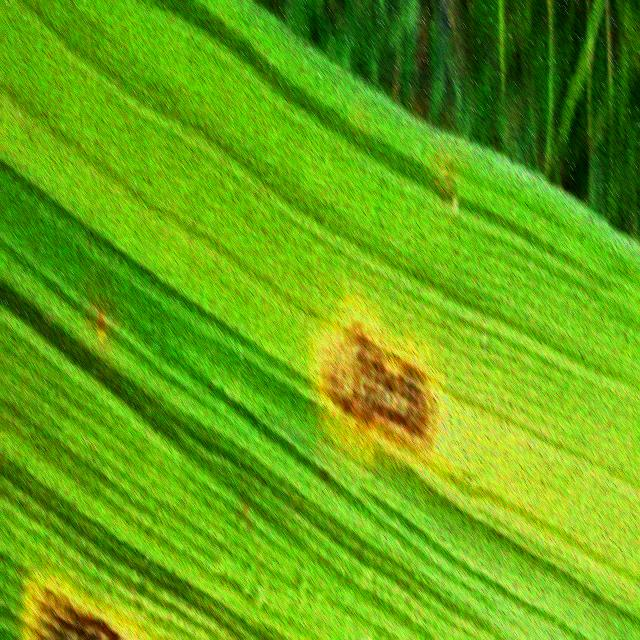NBS: (317, 322, 439, 457), (32, 595, 127, 640), (444, 154, 454, 193), (96, 305, 105, 338), (242, 496, 251, 524)
